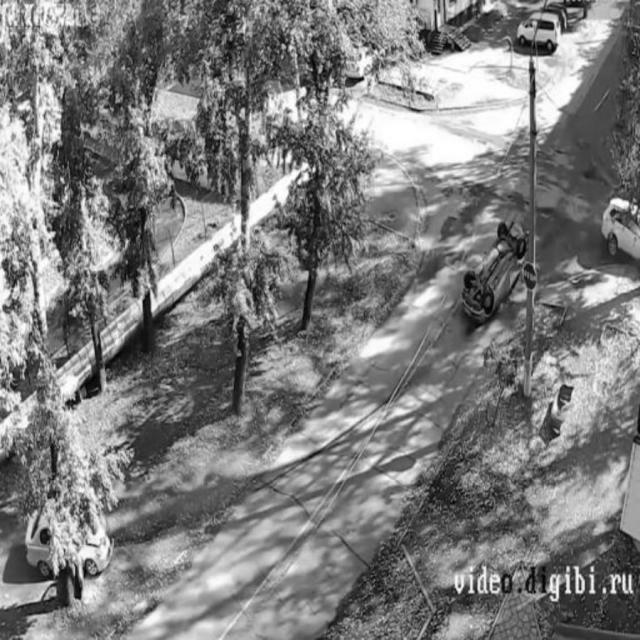vehicle: (24, 495, 112, 573), (463, 221, 525, 322), (595, 195, 639, 259), (517, 9, 565, 51)
